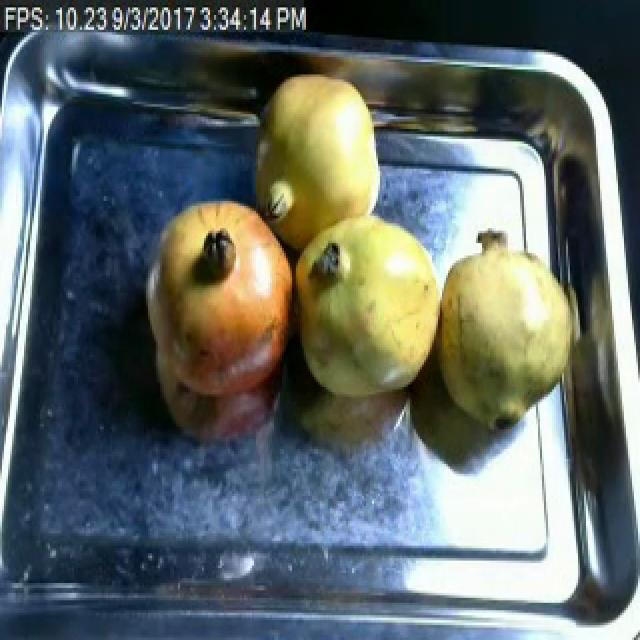fruit: (136, 189, 308, 414), (428, 216, 586, 446), (284, 201, 446, 414)
